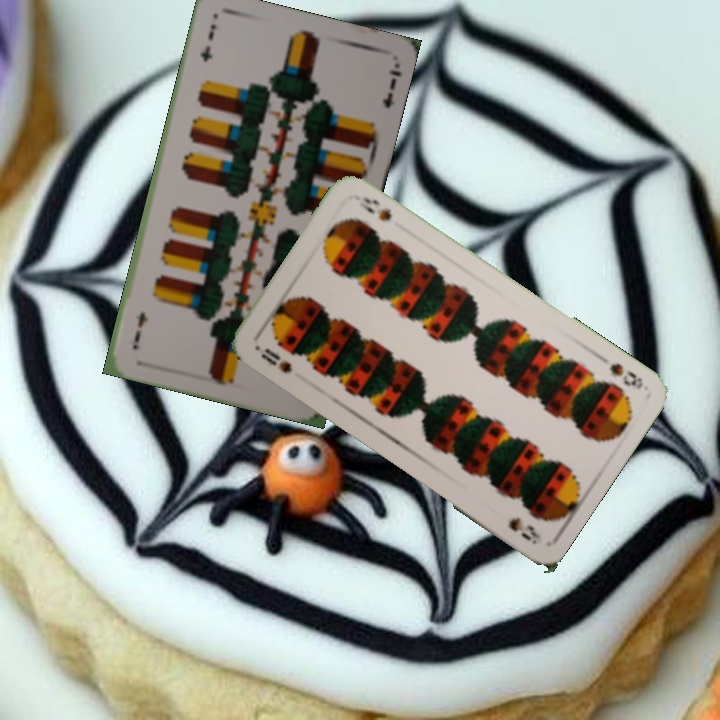E7: (196, 20, 219, 65)
S8: (594, 351, 646, 392), (256, 344, 295, 376)
